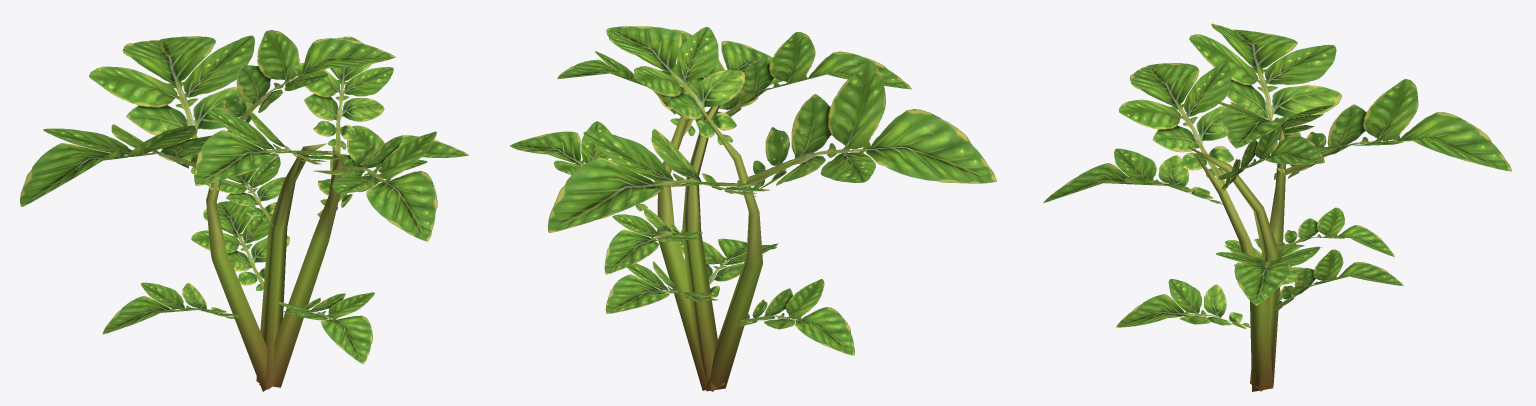
Rendered from plant_potato_S2.fbx.
3 views of the same model, side by side, from view 1: azimuth 30°, elevation 25°; view 2: azimuth 150°, elevation 25°; view 3: azimuth 270°, elevation 25° (orthographic). The views are drawn at different scales.
Visible parts, largest first — view 1: plant_potato_S2; view 2: plant_potato_S2; view 3: plant_potato_S2.
Boxes of the visible parts, left/top/right/bottom form: plant_potato_S2: left=20, top=30, right=469, bottom=391; plant_potato_S2: left=510, top=26, right=996, bottom=391; plant_potato_S2: left=1043, top=23, right=1512, bottom=391.
Size of the model in its own units: 73.33 by 49.09 by 69.06.
